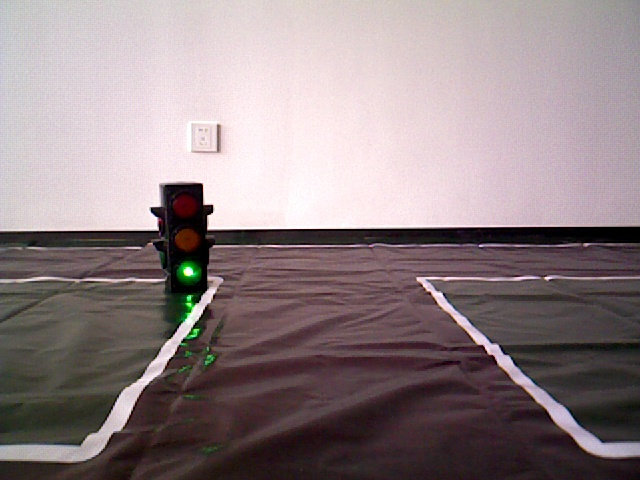green: (161, 191, 207, 290)
